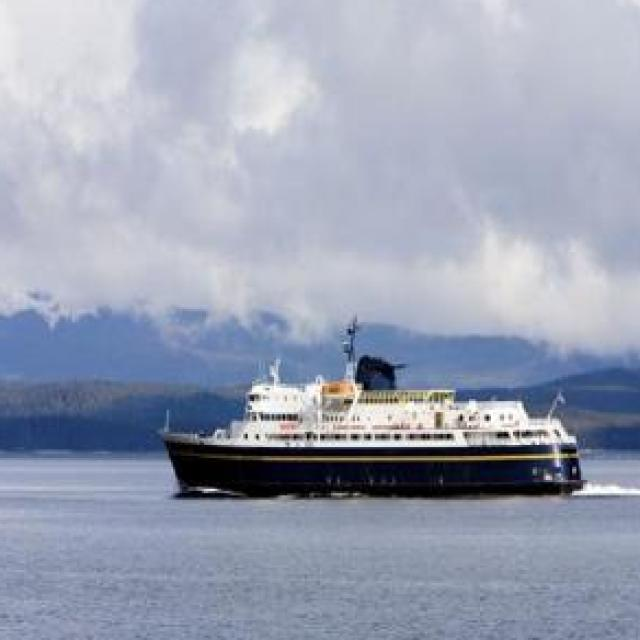passenger ship: (154, 358, 590, 498)
